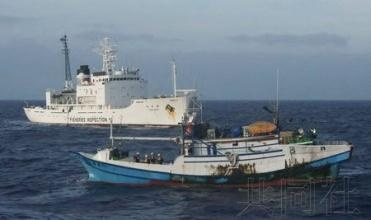otherboat: (80, 114, 344, 183), (22, 32, 200, 127)
